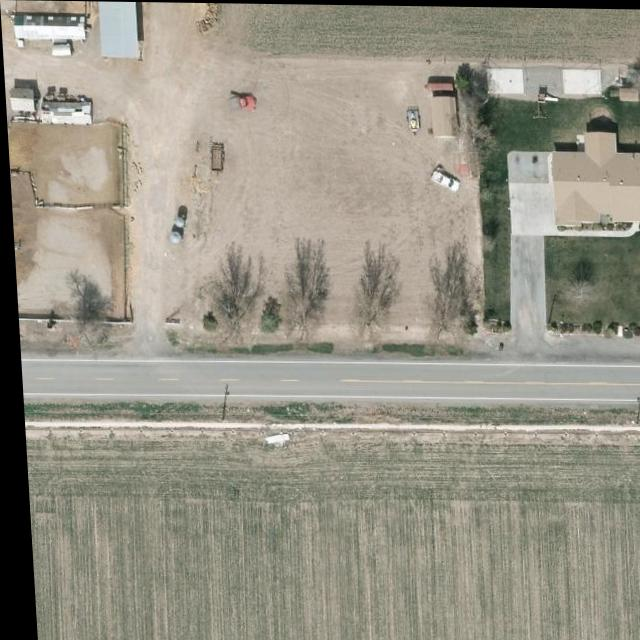vehicle: (427, 164, 462, 196), (225, 91, 256, 114)
